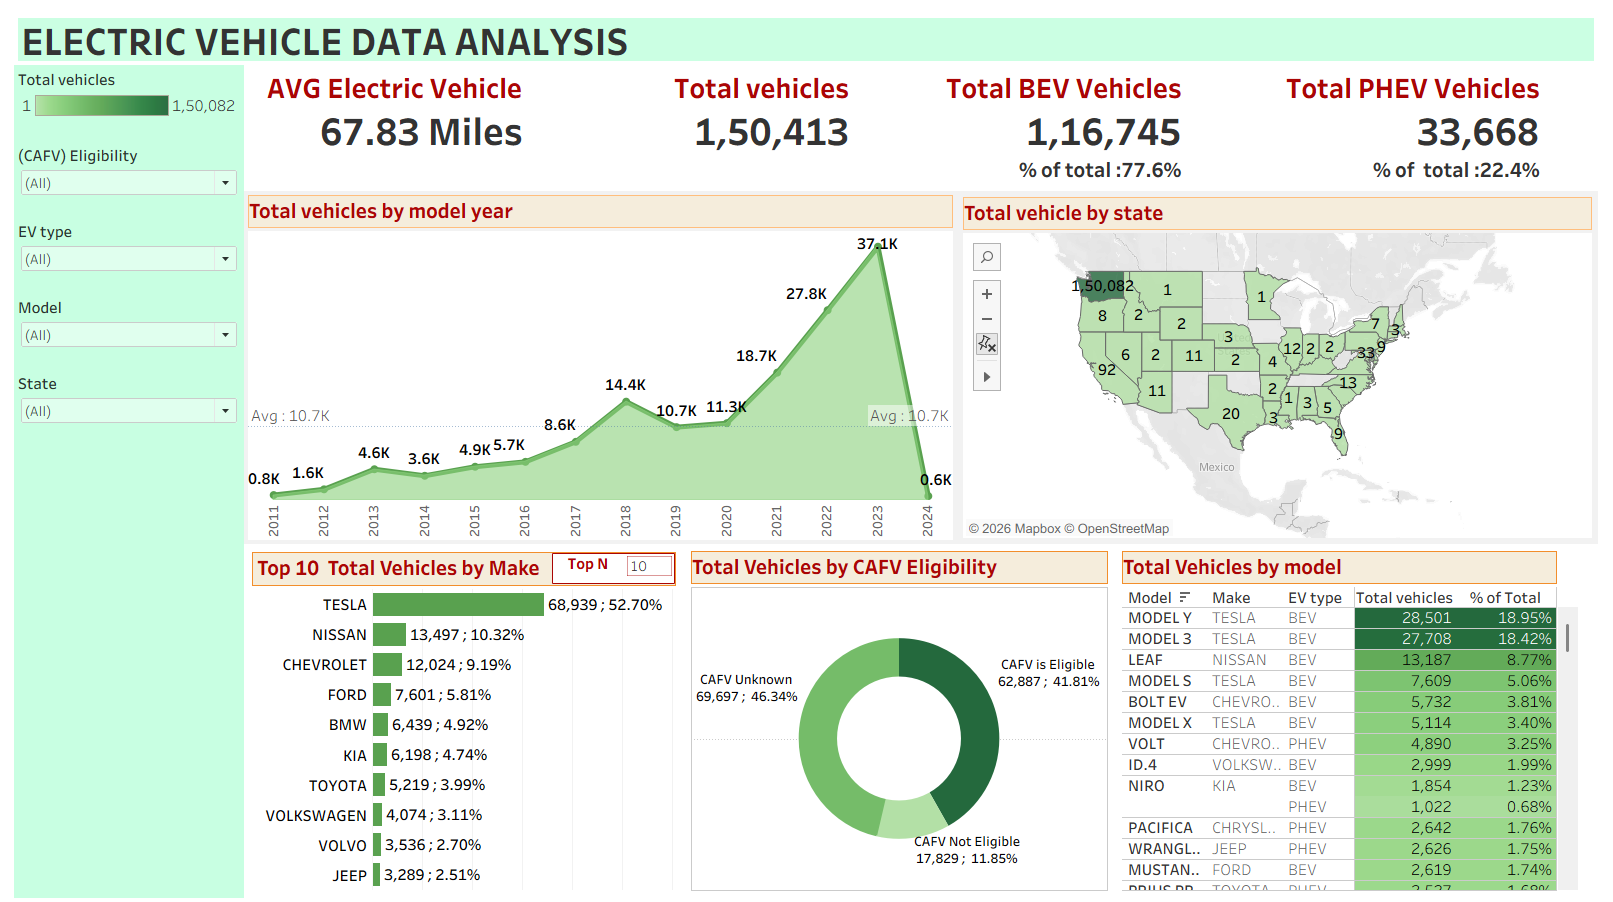

What the dashboard file says about the page in this screenshot:
{"tool":"tableau","page":{"name":"electric vehicle analysis ","canvas":[1600,900],"ordinal":0},"visuals":[{"type":"title","box":[8,8,1584,51]},{"type":"legend","title":"Total vehicle by state ","param":"[federated.0990og10okhcic1edle400o771sb].[usr:Calculation_1018199882723328:qk]","box":[8,59,230,76]},{"type":"worksheet","title":"Avg  Electric vehicle","mark":"Automatic","box":[238,59,339,122]},{"type":"worksheet","title":"total  vehicles","mark":"Automatic","box":[577,59,339,122]},{"type":"worksheet","title":"total bev vehicles","mark":"Automatic","box":[916,59,338,122]},{"type":"worksheet","title":"total pHEV Vehicles","mark":"Automatic","box":[1254,59,338,122]},{"type":"filter","title":"Total vehicles by model year","param":"[federated.0990og10okhcic1edle400o771sb].[none:Clean Alternative Fuel Vehicle (C","box":[8,135,230,76]},{"type":"worksheet","title":"Total vehicles by model year","mark":"Area","rows":["Calculation_1018199882723328","Calculation_1018199882723328"],"cols":["Model Year"],"box":[238,185,713,353.5]},{"type":"worksheet","title":"Total vehicle by state ","mark":"Multipolygon","box":[951,185,641,353.5]},{"type":"filter","title":"Total vehicles by model year","param":"[federated.0990og10okhcic1edle400o771sb].[none:Electric Vehicle Type:nk]","box":[8,211,230,76]},{"type":"filter","title":"Total vehicles by model year","param":"[federated.0990og10okhcic1edle400o771sb].[none:Model:nk]","box":[8,287,230,76]},{"type":"filter","title":"Total vehicles by model year","param":"[federated.0990og10okhcic1edle400o771sb].[none:State:nk]","box":[8,363,230,76]},{"type":"blank","box":[8,439,230,76]},{"type":"blank","box":[8,515,230,76]},{"type":"worksheet","title":" Top 10 Total Vehicles by Make ","mark":"Automatic","rows":["Make"],"cols":["Calculation_1018199882723328"],"box":[238,538.5,440,353.5]},{"type":"worksheet","title":"Total Vehicles by CAFV Eligibility ","mark":"Pie","rows":["Calculation_1018199921438729","Calculation_1018199921438729"],"box":[678,538.5,431,353.5]},{"type":"worksheet","title":"Total Vehicles by model ","mark":"Square","rows":["Model","Make","Electric Vehicle Type"],"box":[1109,538.5,483,353.5]},{"type":"parameter","param":"[Parameters].[Parameter 1]","box":[546,547,123,31]},{"type":"blank","box":[8,591,230,76]},{"type":"blank","box":[8,667,230,75]},{"type":"blank","box":[8,742,230,75]},{"type":"blank","box":[8,817,230,75]}]}

Visuals, with their boxes in screenshot pixels (x1, y1, x2, y2), scaled from the page's 1600x900 canvas onto the 1613x902 screenshot:
title: rect(8, 8, 1605, 59)
"Total vehicle by state " legend: rect(8, 59, 240, 135)
"Avg  Electric vehicle" worksheet: rect(240, 59, 582, 181)
"total  vehicles" worksheet: rect(582, 59, 923, 181)
"total bev vehicles" worksheet: rect(923, 59, 1264, 181)
"total pHEV Vehicles" worksheet: rect(1264, 59, 1605, 181)
"Total vehicles by model year" filter: rect(8, 135, 240, 211)
"Total vehicles by model year" worksheet (Area marks): rect(240, 185, 959, 540)
"Total vehicle by state " worksheet (Multipolygon marks): rect(959, 185, 1605, 540)
"Total vehicles by model year" filter: rect(8, 211, 240, 288)
"Total vehicles by model year" filter: rect(8, 288, 240, 364)
"Total vehicles by model year" filter: rect(8, 364, 240, 440)
blank: rect(8, 440, 240, 516)
blank: rect(8, 516, 240, 592)
" Top 10 Total Vehicles by Make " worksheet: rect(240, 540, 684, 894)
"Total Vehicles by CAFV Eligibility " worksheet (Pie marks): rect(684, 540, 1118, 894)
"Total Vehicles by model " worksheet (Square marks): rect(1118, 540, 1605, 894)
parameter: rect(550, 548, 674, 579)
blank: rect(8, 592, 240, 668)
blank: rect(8, 668, 240, 744)
blank: rect(8, 744, 240, 819)
blank: rect(8, 819, 240, 894)
